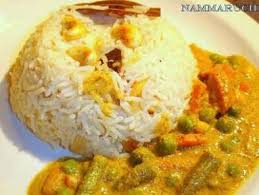rice: (15, 4, 204, 184)
